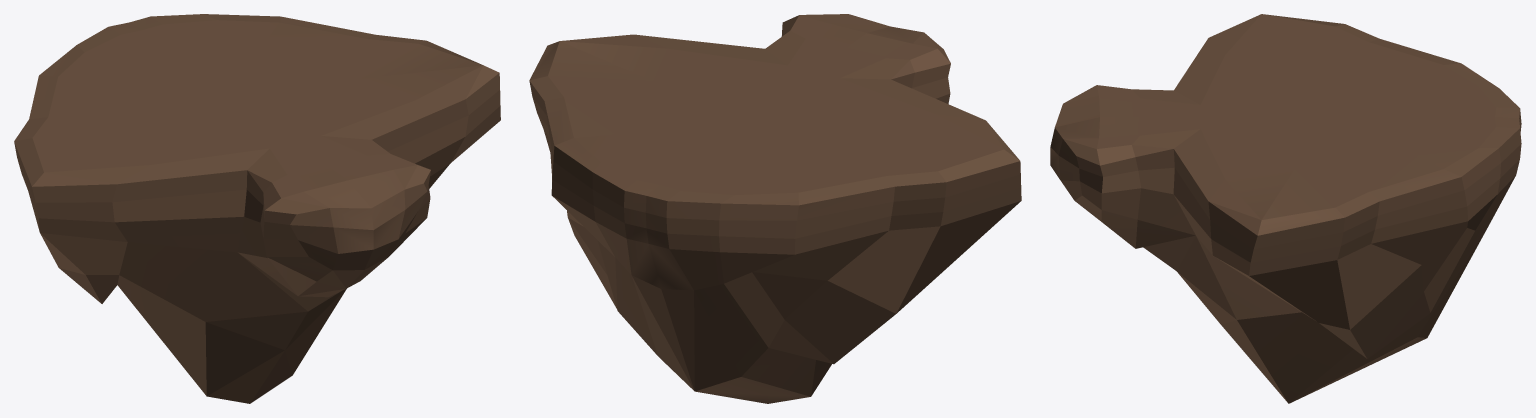
Rendered from Tikei.fbx.
3 renders of one model, left to right at view 1: azimuth 30°, elevation 25°; view 2: azimuth 150°, elevation 25°; view 3: azimuth 270°, elevation 25°, orthographic. The views are drawn at different scales.
Parts seen in each view (by area): view 1: Tikei; view 2: Tikei; view 3: Tikei.
Part boxes in pixels (<box>): Tikei: <box>14,14,500,403</box>; Tikei: <box>529,14,1021,403</box>; Tikei: <box>1050,14,1521,403</box>.
Size of the model in its own units: 5445 by 3283 by 4940.
